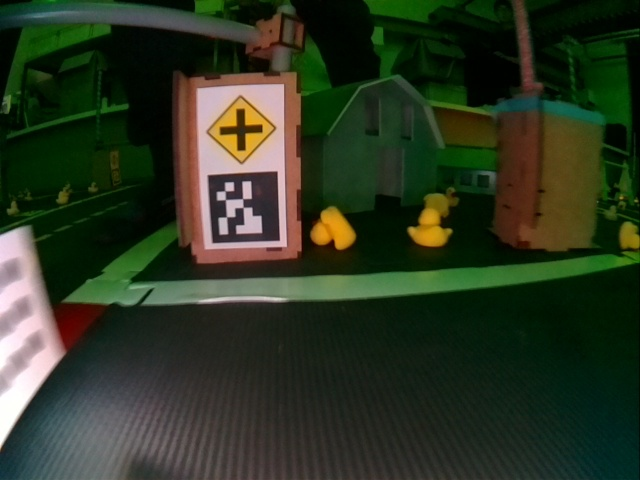Duckie: (312, 206, 354, 249), (407, 210, 448, 245), (424, 193, 449, 217), (619, 223, 639, 248), (445, 188, 459, 206), (56, 189, 70, 205), (604, 205, 618, 220), (7, 200, 19, 215), (87, 183, 98, 192), (25, 192, 33, 200)
Intersection sign: (205, 96, 276, 163)
QR code: (206, 170, 281, 245)
